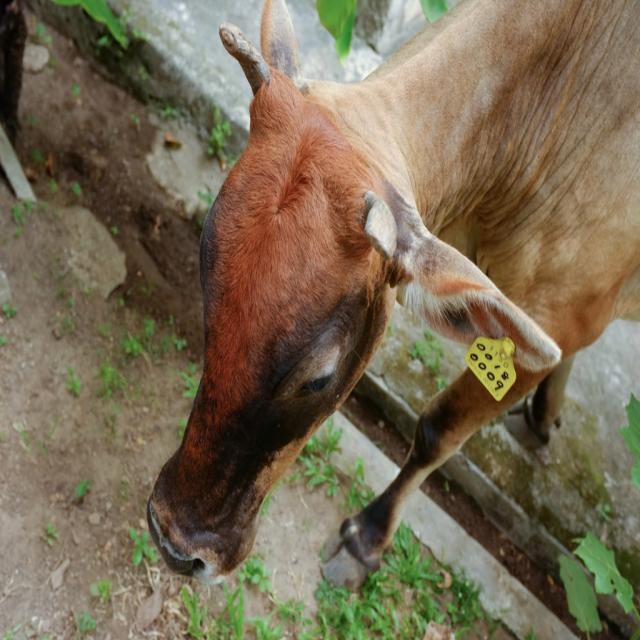Cattle: (146, 0, 640, 594)
